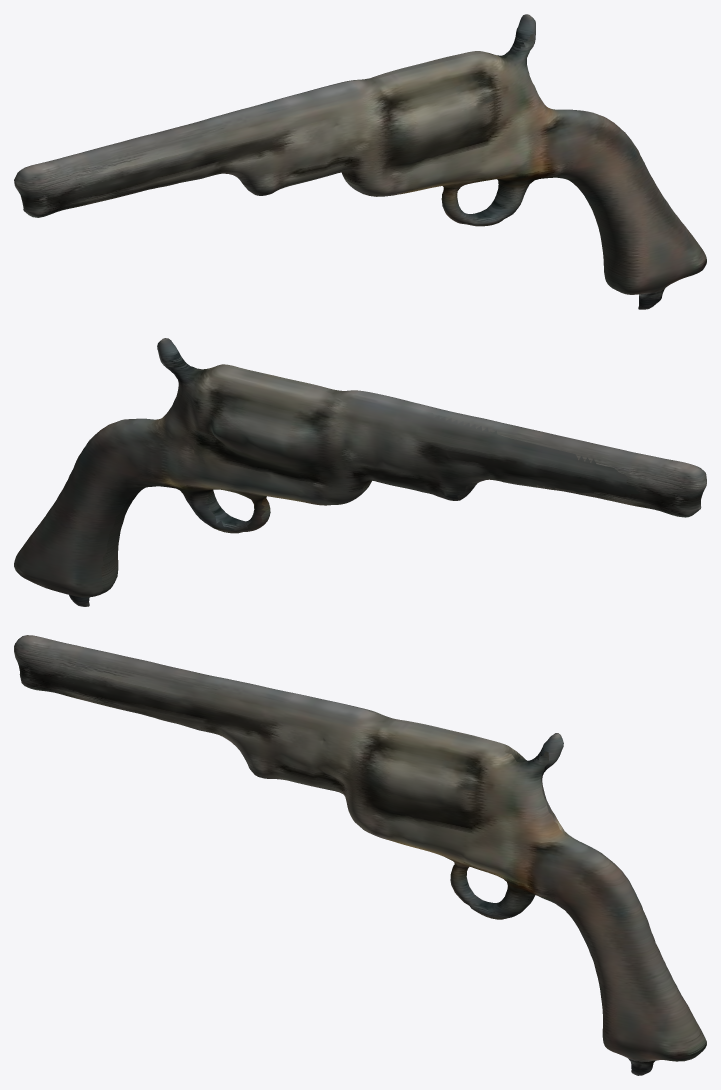
The model's file is kfl-2173.glb.
The picture shows the model from 3 angles, top to bottom: view 1: azimuth 30°, elevation 25°; view 2: azimuth 150°, elevation 25°; view 3: azimuth 330°, elevation 25°; orthographic projection.
Visible parts, largest first — view 1: geometry_0; view 2: geometry_0; view 3: geometry_0.
Boxes of the visible parts, <box> form: geometry_0: <box>14,14,706,309</box>; geometry_0: <box>14,338,706,606</box>; geometry_0: <box>14,635,706,1075</box>.
Bounding box in the file's own units: 0.9911 × 0.4209 × 0.1205.
1 material, 1 textured.
